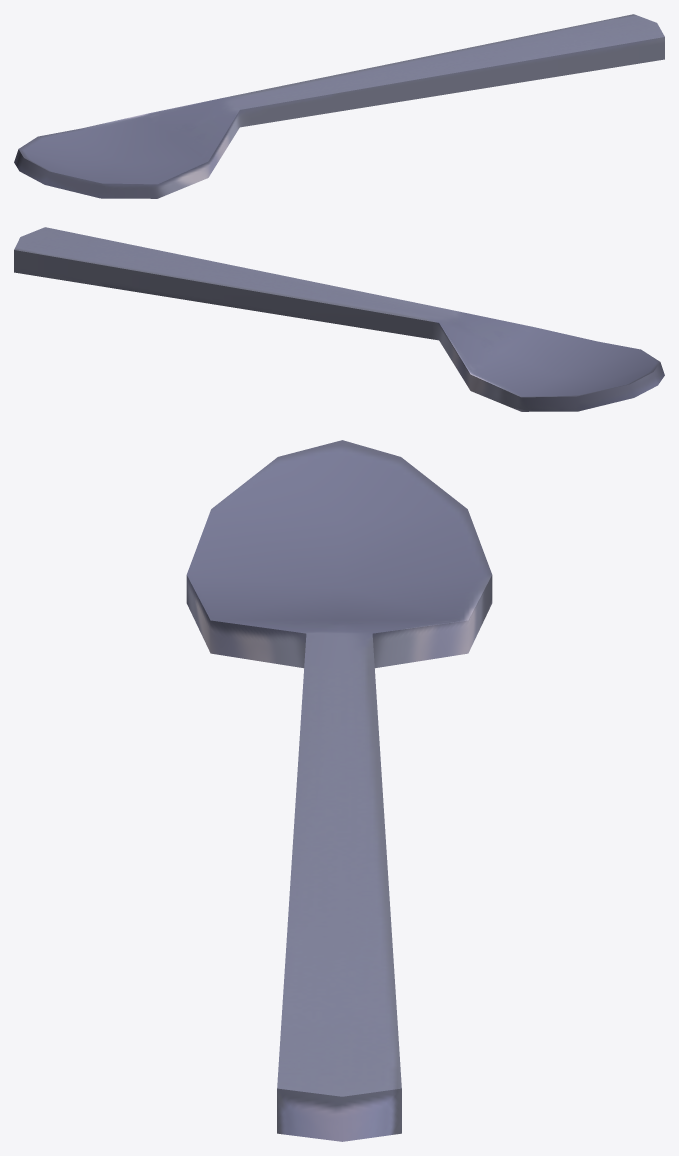
File: Spoon_01.fbx
The picture shows the model from 3 angles, top to bottom: view 1: azimuth 30°, elevation 25°; view 2: azimuth 150°, elevation 25°; view 3: azimuth 270°, elevation 25°; orthographic projection. The views are drawn at different scales.
Visible parts, largest first — view 1: Spoon_01; view 2: Spoon_01; view 3: Spoon_01.
Part boxes in pixels (x1,y1,x2,y2): Spoon_01: (14, 14, 664, 198); Spoon_01: (14, 227, 664, 411); Spoon_01: (186, 440, 492, 1141).
Size of the model in its own units: 59.01 by 4.25 by 12.24.
